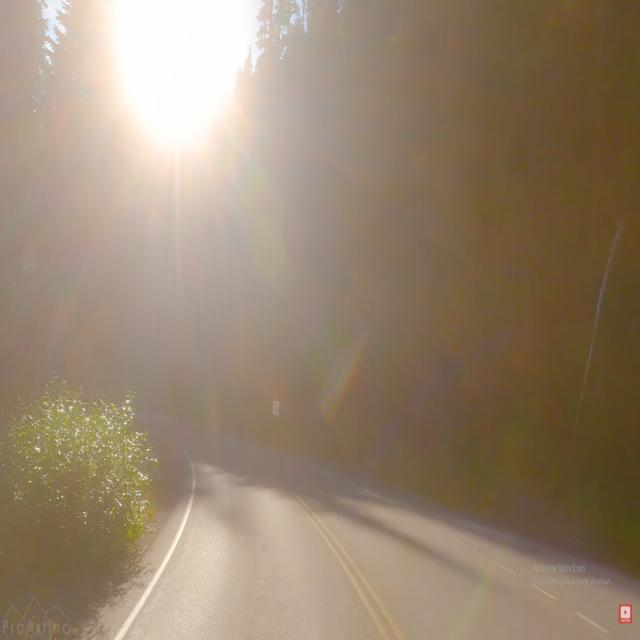sun: (102, 0, 250, 172)
